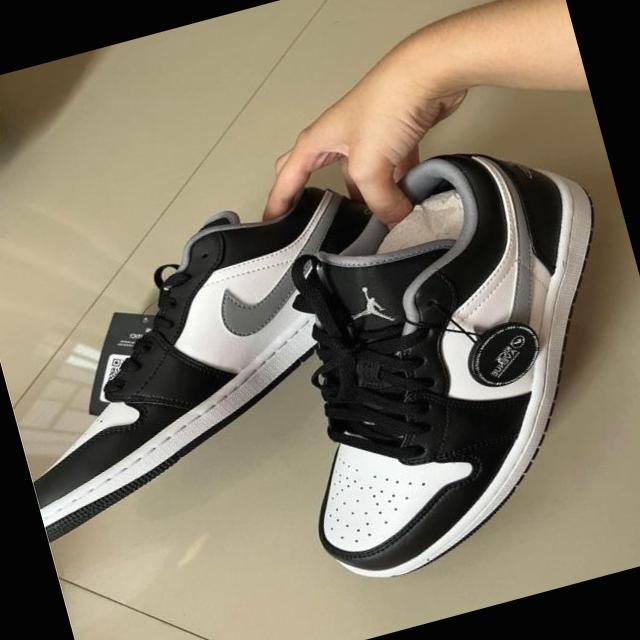nike_original_jordan: (224, 120, 640, 594), (0, 170, 439, 540)
